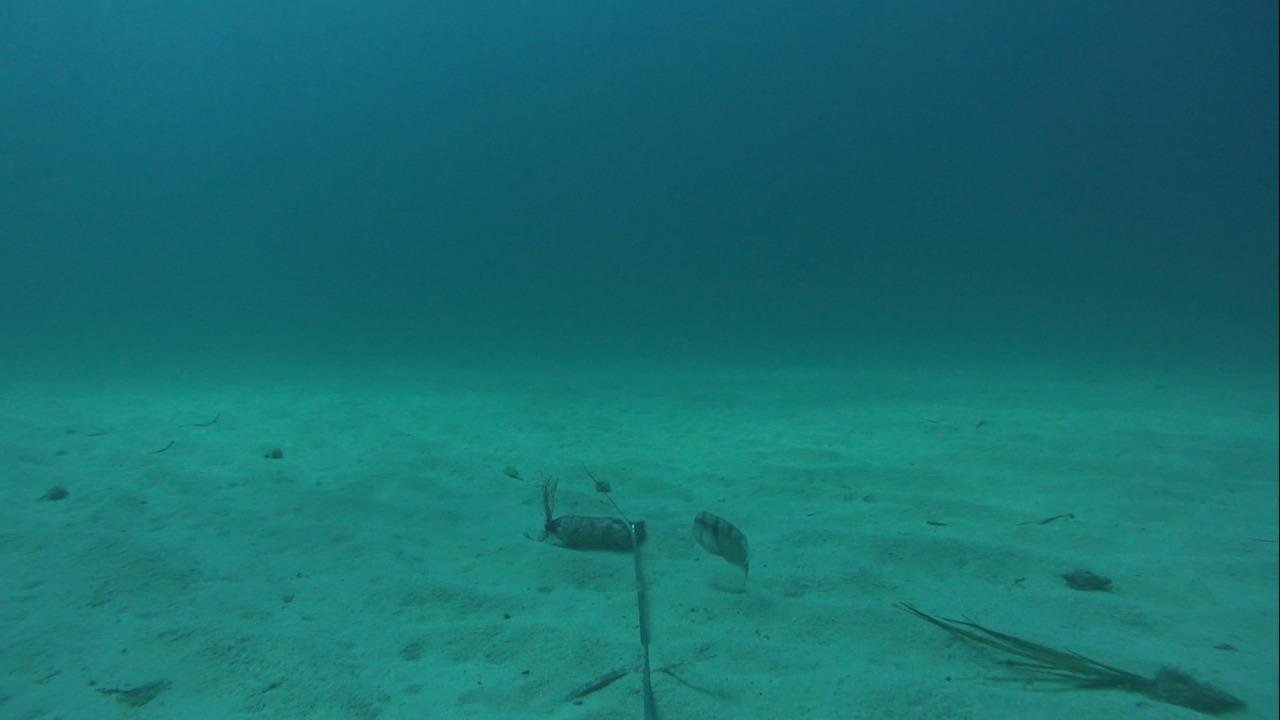raor: (681, 502, 755, 577)
